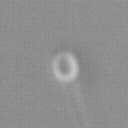normal: (59, 81, 99, 128)
